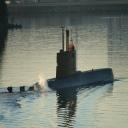submarine: (8, 20, 120, 97)
